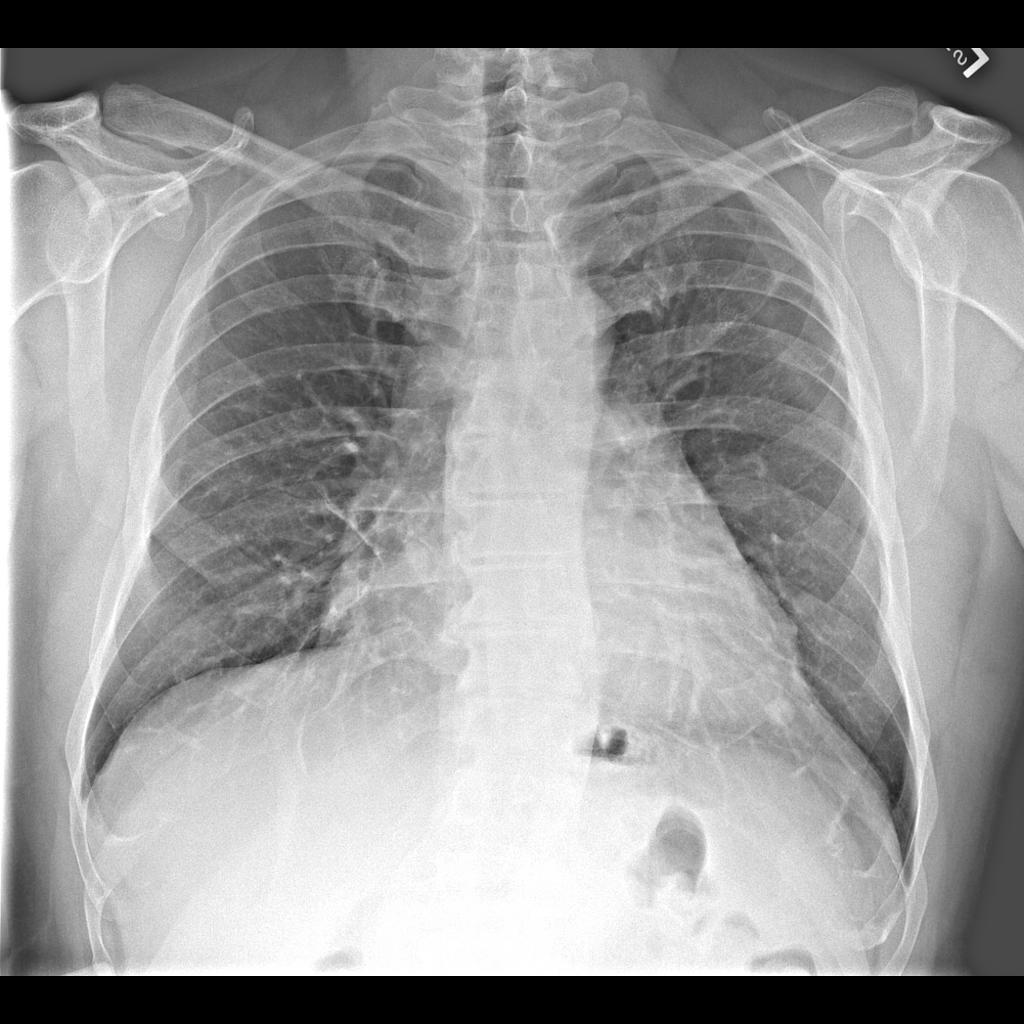Nodule: (784, 579, 826, 630)
